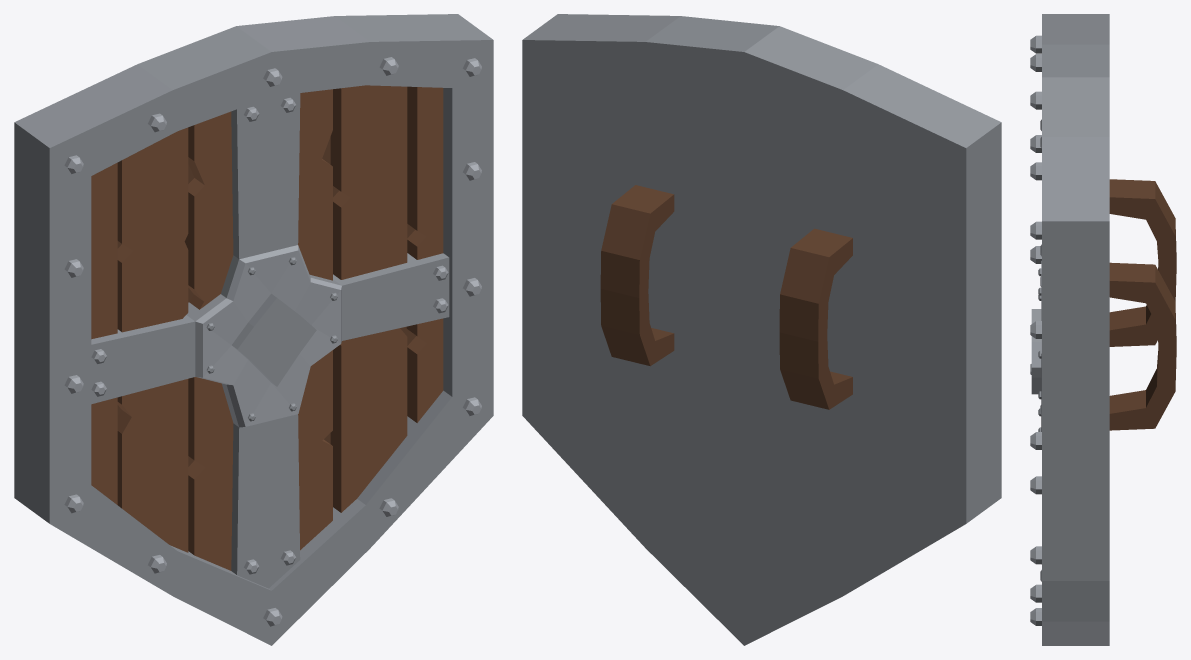
Rendered from Shield_Heater.gltf.
3 renders of one model, left to right at view 1: azimuth 30°, elevation 25°; view 2: azimuth 150°, elevation 25°; view 3: azimuth 270°, elevation 25°, orthographic. The views are drawn at different scales.
Visible parts, largest first — view 1: Shield_Heater; view 2: Shield_Heater; view 3: Shield_Heater.
Boxes of the visible parts, x1,y1,x2,y2 form: Shield_Heater: (14, 14, 493, 645); Shield_Heater: (522, 14, 1001, 645); Shield_Heater: (1030, 14, 1176, 645).
Bounding box in the file's own units: 2.01 × 2.56 × 0.597.
